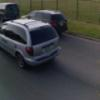cars: (20, 10, 68, 34), (0, 2, 20, 22)
